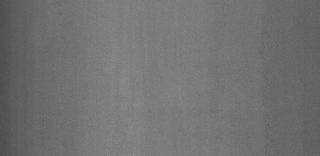silk spot: (253, 17, 290, 149)
